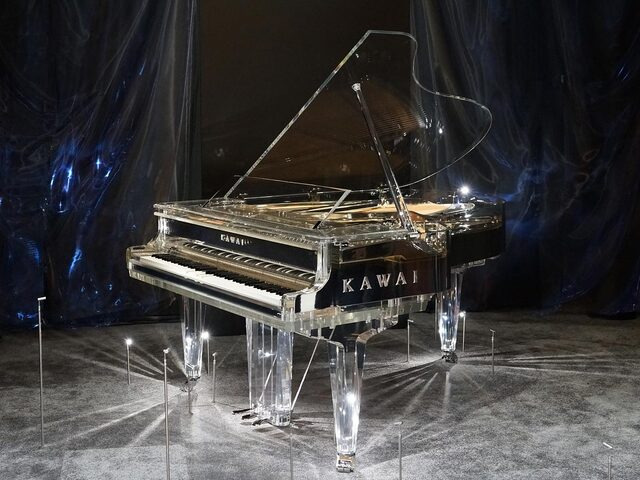Piano: (126, 22, 515, 475)
